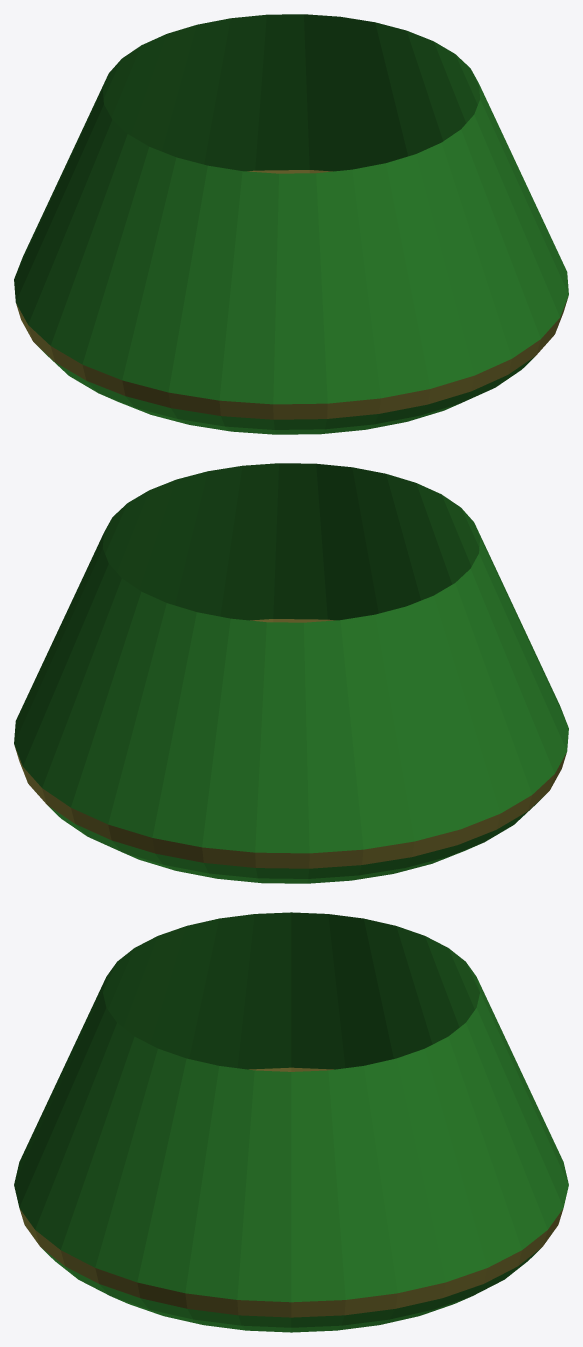
Rendered from Tag_Arena4.fbx.
3 renders of one model, top to bottom at view 1: azimuth 30°, elevation 25°; view 2: azimuth 150°, elevation 25°; view 3: azimuth 270°, elevation 25°, orthographic.
Visible parts, largest first — view 1: Invis_Wall, Arena4_Mesh; view 2: Invis_Wall, Arena4_Mesh; view 3: Invis_Wall, Arena4_Mesh.
Boxes of the visible parts, <box> form: Invis_Wall: <box>14,14,568,404</box>; Arena4_Mesh: <box>16,170,568,434</box>; Invis_Wall: <box>14,463,568,853</box>; Arena4_Mesh: <box>14,619,566,883</box>; Invis_Wall: <box>14,912,568,1302</box>; Arena4_Mesh: <box>19,1067,563,1332</box>.
Size of the model in its own units: 200 by 112 by 200.
